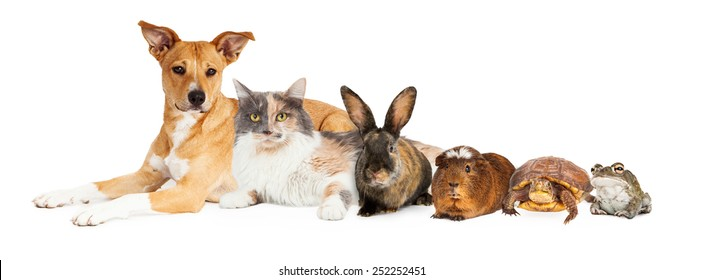cat: (236, 73, 318, 209)
dog: (124, 9, 240, 185)
rabbit: (344, 78, 428, 225)
